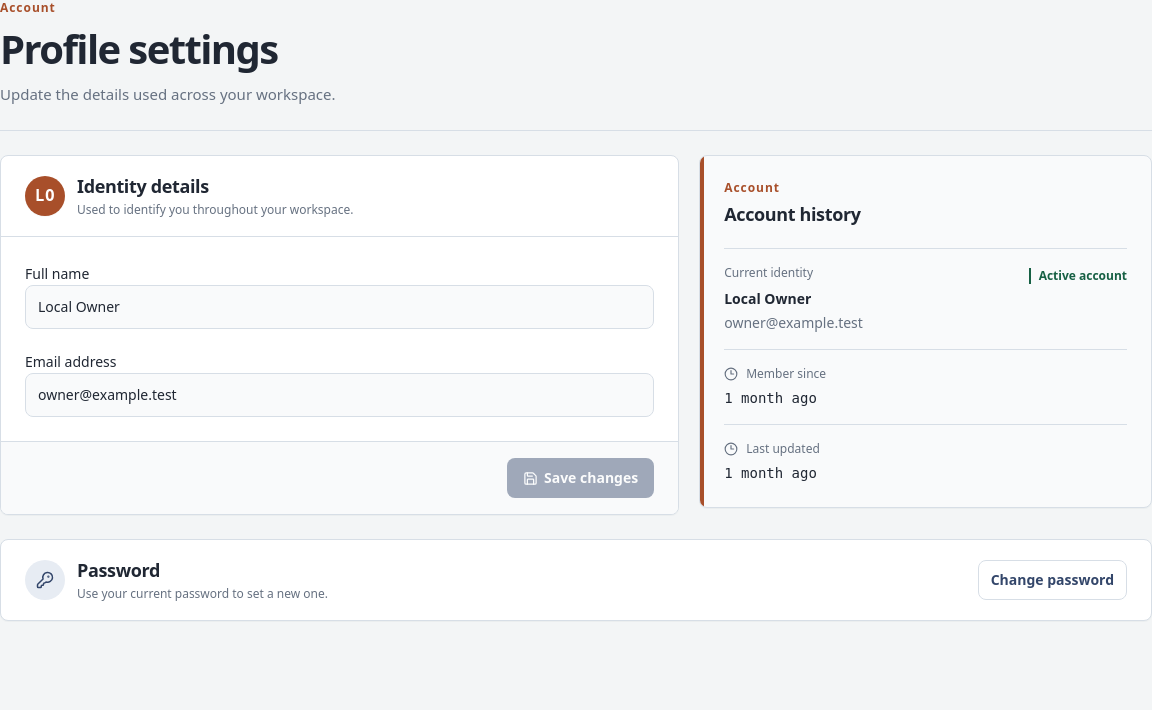
Test: profile settings workflow › requests a password reset email for the current user
Step 1. Click the button "Change password" → (1052, 580), box [978,560,1127,600]
(page scrolled)
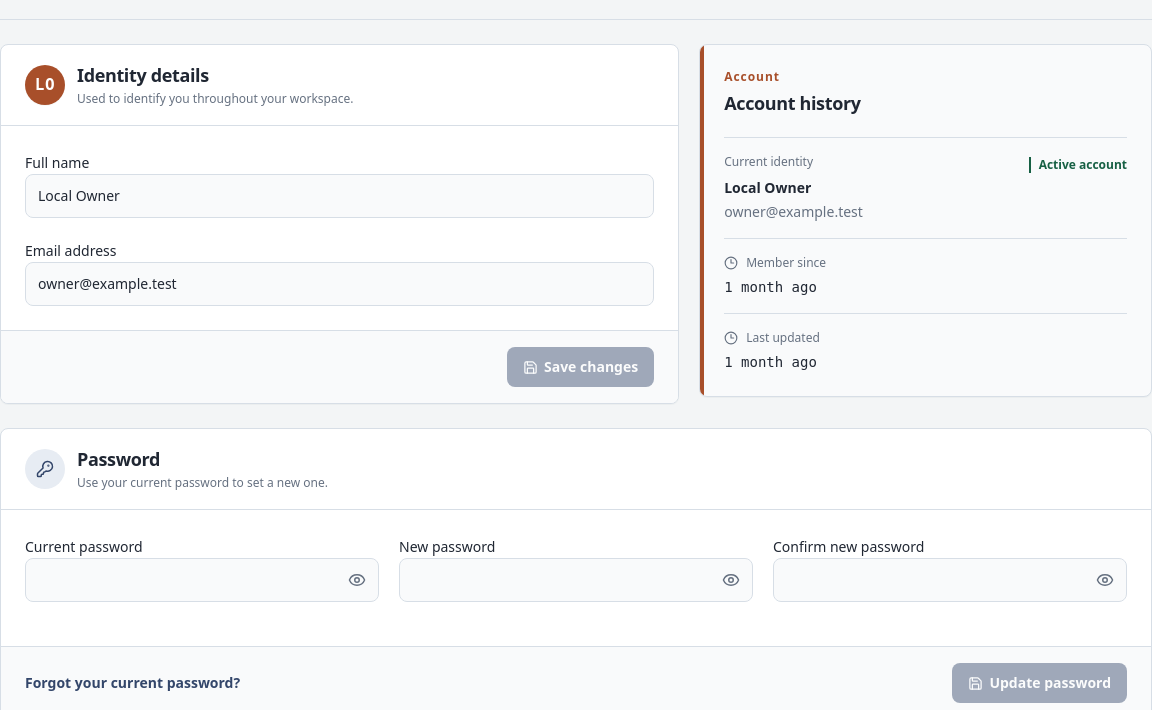
Step 2. Click the button "Forgot your current password?" → (133, 683), box [25,673,240,693]
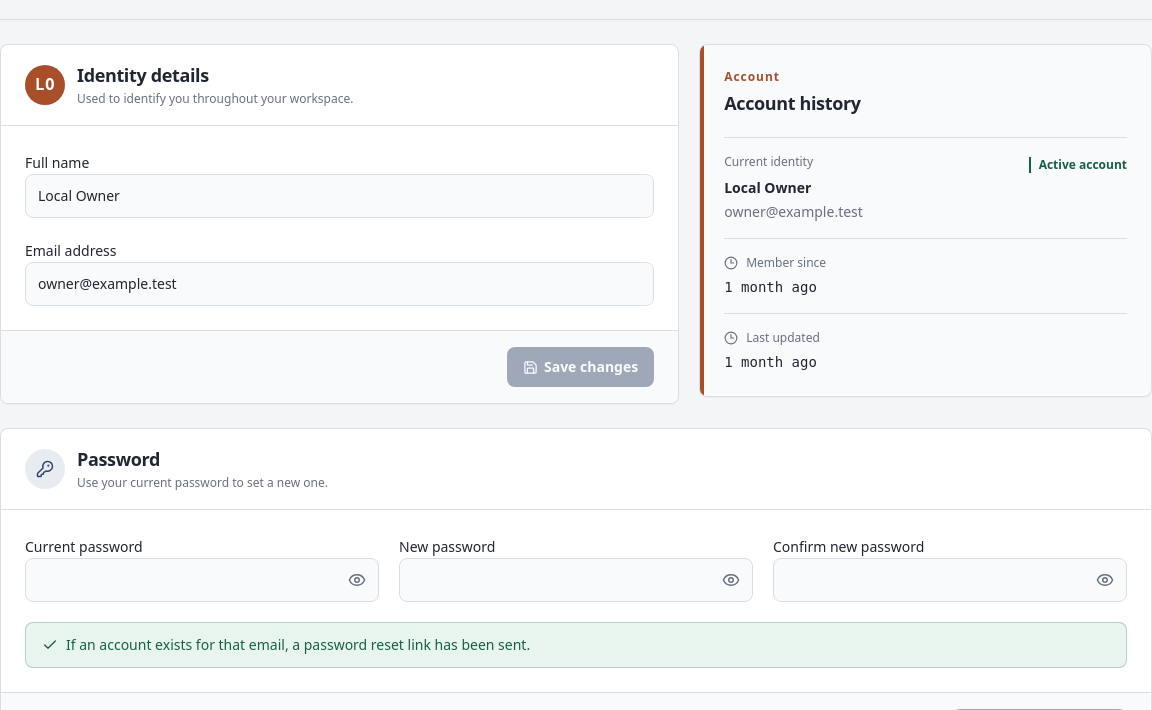
Expected: the message "If an account exists for that email, a password reset link has been sent." is shown, [25,622,1127,668]
